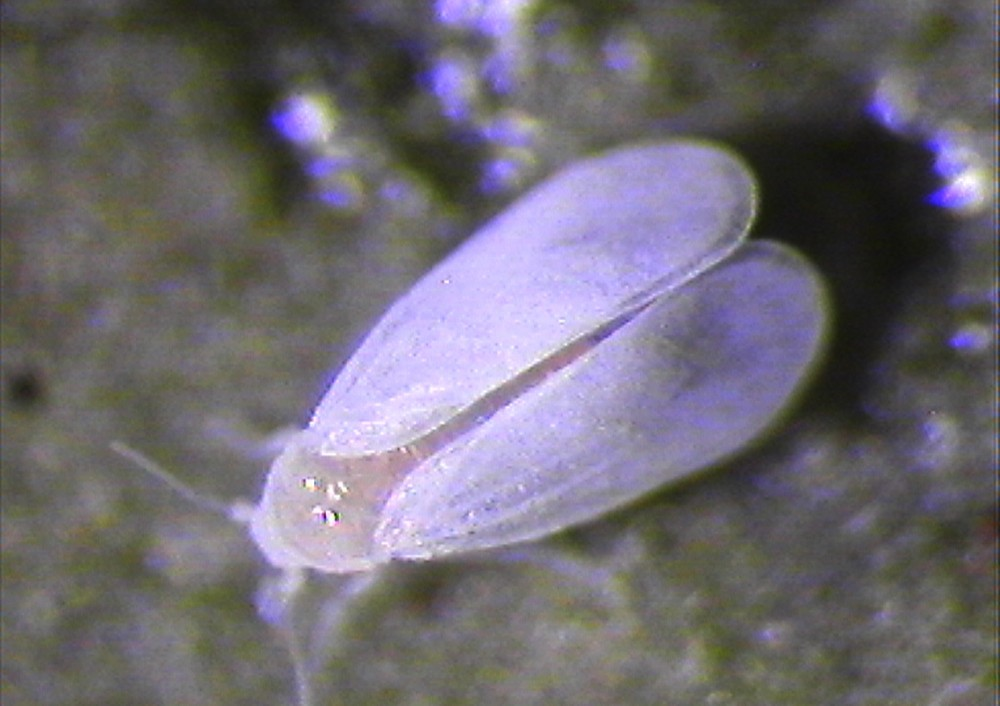Mosca Blanca: (105, 129, 863, 686)
